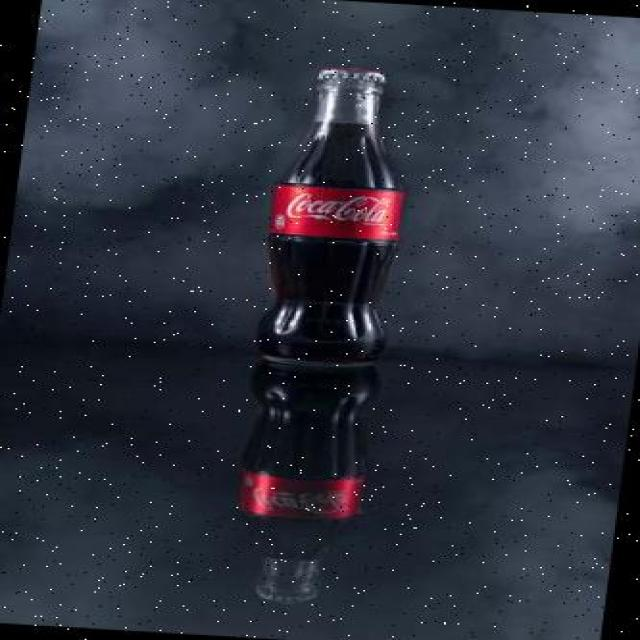coca-cola: (236, 59, 428, 377)
